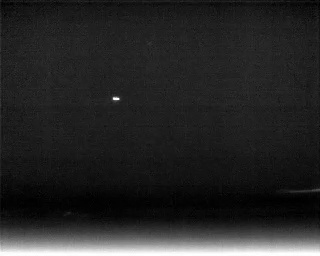AIRPLANE: (111, 94, 122, 103)
